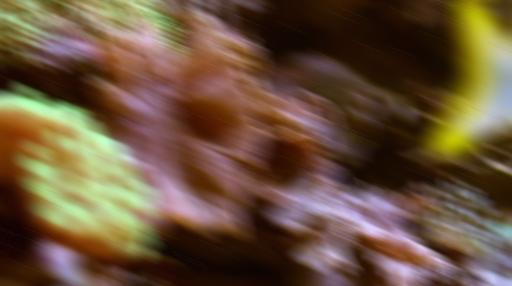Fish: (425, 0, 511, 159)
